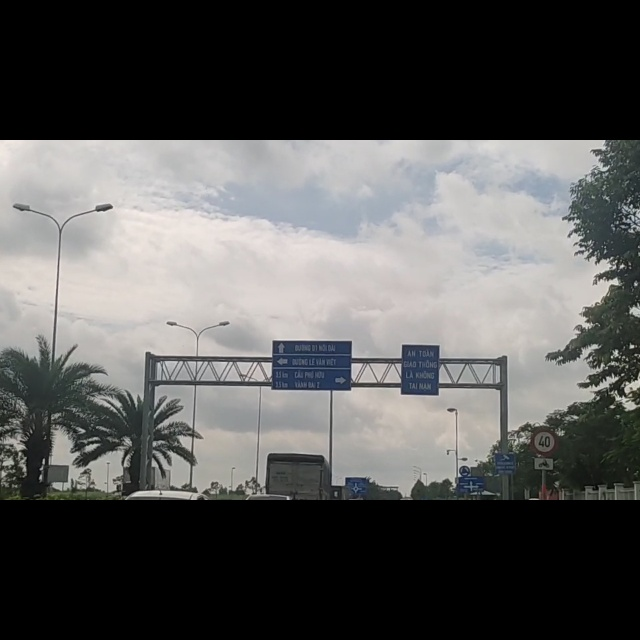bien_chi_dan: (531, 511, 557, 559), (531, 561, 555, 589)
